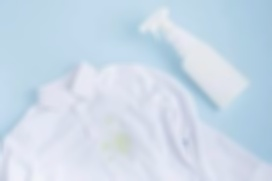oil: (98, 133, 135, 160)
